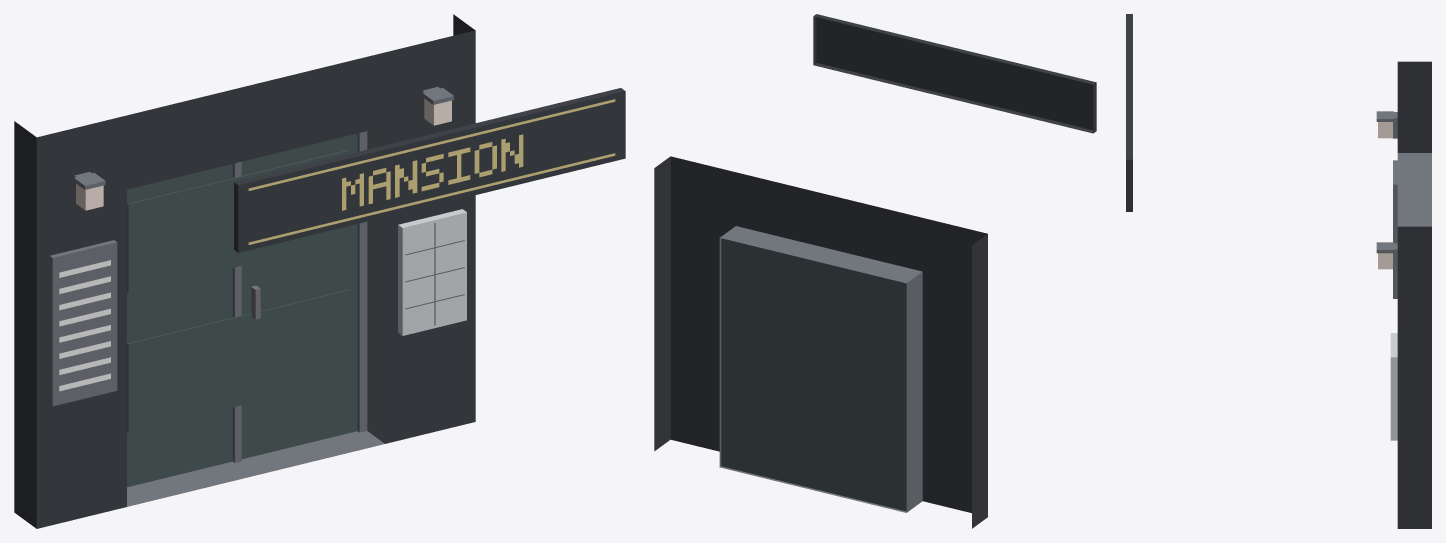
Rendered from entrance_close.fbx.
3 renders of one model, left to right at view 1: azimuth 30°, elevation 25°; view 2: azimuth 150°, elevation 25°; view 3: azimuth 270°, elevation 25°, orthographic. The views are drawn at different scales.
Visible parts, largest first — view 1: a2011/300/entrance_close; view 2: a2011/300/entrance_close; view 3: a2011/300/entrance_close.
Part boxes in pixels (x1,y1,x2,y2): a2011/300/entrance_close: (14,14,625,528); a2011/300/entrance_close: (654,14,1096,528); a2011/300/entrance_close: (1126,14,1431,528).
Size of the model in its own units: 3.4 by 3.45 by 2.67.
